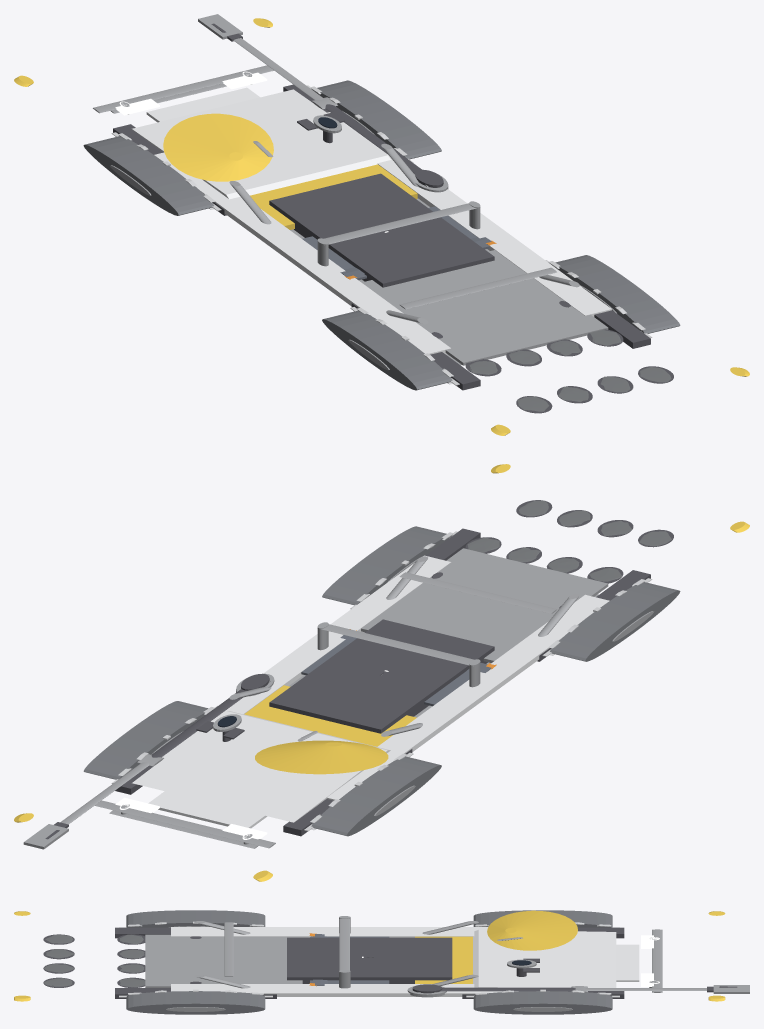
File: apollo_lrv.glb
The picture shows the model from 3 angles, top to bottom: view 1: azimuth 30°, elevation 25°; view 2: azimuth 150°, elevation 25°; view 3: azimuth 270°, elevation 25°; orthographic projection. The views are drawn at different scales.
Parts seen in each view (by area): view 1: Chassis, CargoBed, Body_FrontHood, Body_SidePod_L, HighGain_Dish, Body_SidePod_R, Wheel_FL, Wheel_RL, Wheel_RR, Wheel_FR, Avionics_GoldBay, Body_NoseTip (+7 smaller); view 2: Chassis, CargoBed, Body_FrontHood, Body_SidePod_L, Body_SidePod_R, Wheel_FL, Wheel_RL, Wheel_RR, Wheel_FR, HighGain_Dish, Avionics_GoldBay, Body_NoseTip (+7 smaller); view 3: Chassis, CargoBed, Body_FrontHood, Body_SidePod_R, HighGain_Dish, Wheel_FR, Wheel_RR, Body_SidePod_L, Wheel_RL, Wheel_FL, Avionics_GoldBay, Body_NoseTip (+23 smaller).
Part boxes in pixels (x1,y1,x2,y2): Chassis: [269, 173, 494, 287]; CargoBed: [361, 250, 608, 365]; Body_FrontHood: [132, 89, 390, 199]; Body_SidePod_L: [154, 152, 450, 354]; HighGain_Dish: [163, 113, 273, 181]; Body_SidePod_R: [327, 112, 611, 316]; Wheel_FL: [83, 136, 213, 215]; Wheel_RL: [322, 310, 452, 390]; Wheel_RR: [552, 255, 680, 333]; Wheel_FR: [313, 80, 441, 159]; Avionics_GoldBay: [250, 164, 417, 229]; Body_NoseTip: [146, 87, 260, 122]; Chassis: [269, 619, 494, 733]; CargoBed: [361, 548, 608, 662]; Body_FrontHood: [132, 711, 390, 822]; Body_SidePod_L: [326, 594, 609, 800]; Body_SidePod_R: [162, 555, 451, 757]; Wheel_FL: [311, 756, 441, 836]; Wheel_RL: [550, 582, 680, 661]; Wheel_RR: [322, 526, 452, 605]; Wheel_FR: [83, 701, 208, 779]; HighGain_Dish: [255, 740, 388, 774]; Avionics_GoldBay: [244, 685, 416, 746]; Body_NoseTip: [148, 791, 267, 828]; Chassis: [287, 937, 452, 983]; CargoBed: [145, 934, 302, 987]; Body_FrontHood: [473, 929, 616, 987]; Body_SidePod_R: [171, 984, 518, 996]; HighGain_Dish: [487, 910, 577, 950]; Wheel_FR: [473, 991, 612, 1014]; Wheel_RR: [126, 991, 265, 1014]; Body_SidePod_L: [171, 927, 487, 937]; Wheel_RL: [126, 910, 265, 927]; Wheel_FL: [473, 910, 612, 927]; Avionics_GoldBay: [415, 936, 472, 983]; Body_NoseTip: [616, 944, 639, 981].
Size of what is drawn, in the model's own units: 3.71 by 0.4906 by 12.24.
